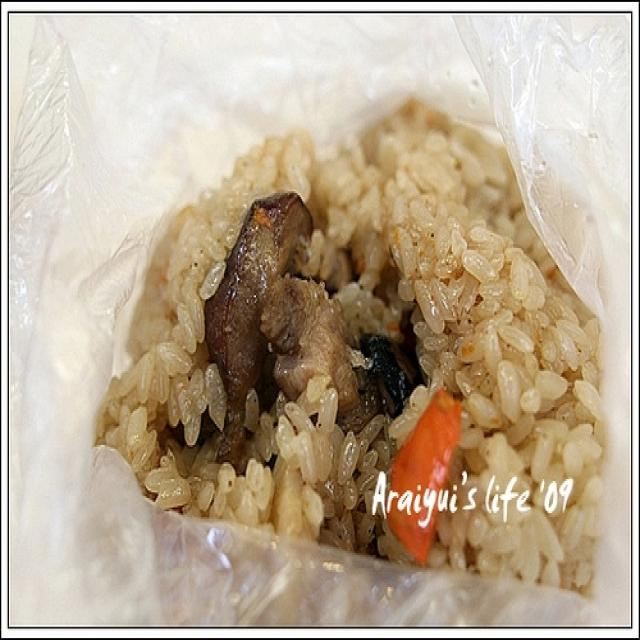米饭主食: (83, 76, 608, 604)
